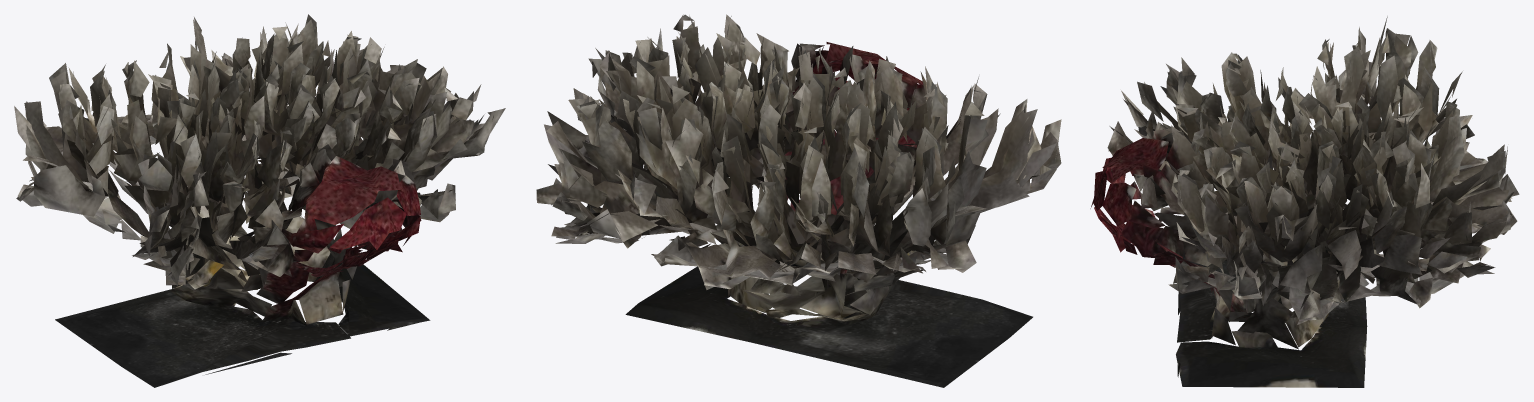
File: Secale_LOD2.fbx
3 views of the same model, side by side, from view 1: azimuth 30°, elevation 25°; view 2: azimuth 150°, elevation 25°; view 3: azimuth 270°, elevation 25° (orthographic). The views are drawn at different scales.
Visible parts, largest first — view 1: Secale_LOD2; view 2: Secale_LOD2; view 3: Secale_LOD2.
Part boxes in pixels (x1=…): Secale_LOD2: x1=14, y1=14, x2=505, y2=387; Secale_LOD2: x1=536, y1=14, x2=1061, y2=387; Secale_LOD2: x1=1090, y1=16, x2=1519, y2=387.
Size of the model in its own units: 98.85 by 50.96 by 84.63.
